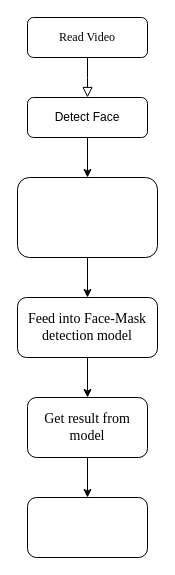
The diagram is 175 pixels wide and 575 high, and some of its shapes have lost their labels. The shapes that lost their labels are listed below. From the top down, each one's box as (x1, y1, x2, y2) in pixels, then its label:
(16, 176, 158, 258): Crop Face and Gray-Scale Conversion
(26, 496, 148, 558): Show Result
